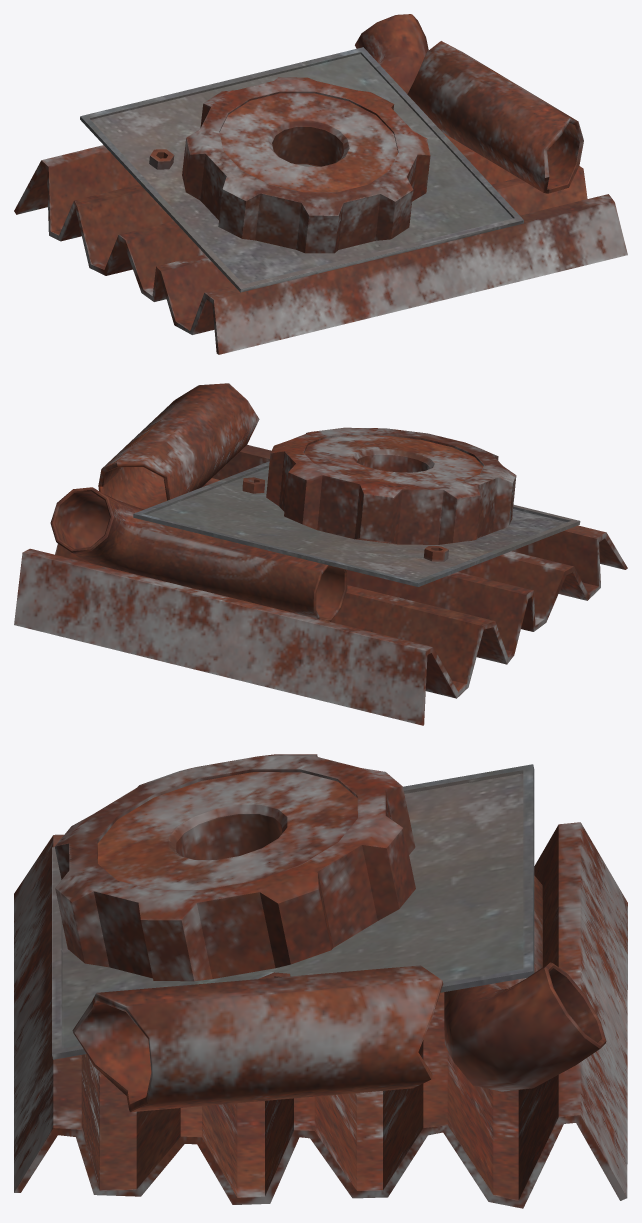
The model's file is scrap01.fbx.
3 views of the same model, one above another, from view 1: azimuth 30°, elevation 25°; view 2: azimuth 150°, elevation 25°; view 3: azimuth 270°, elevation 25° (orthographic). The views are drawn at different scales.
Parts seen in each view (by area): view 1: Tube_4; view 2: Tube_4; view 3: Tube_4.
Part boxes in pixels (<box>): Tube_4: <box>14,14,627,354</box>; Tube_4: <box>14,383,627,725</box>; Tube_4: <box>14,754,627,1208</box>.
Size of the model in its own units: 658 by 219 by 550.
1 material, 1 textured.
